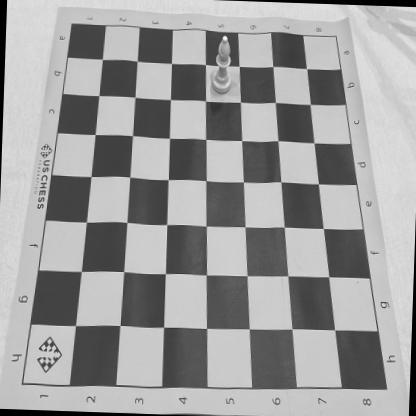bishop: (210, 35, 233, 96)
